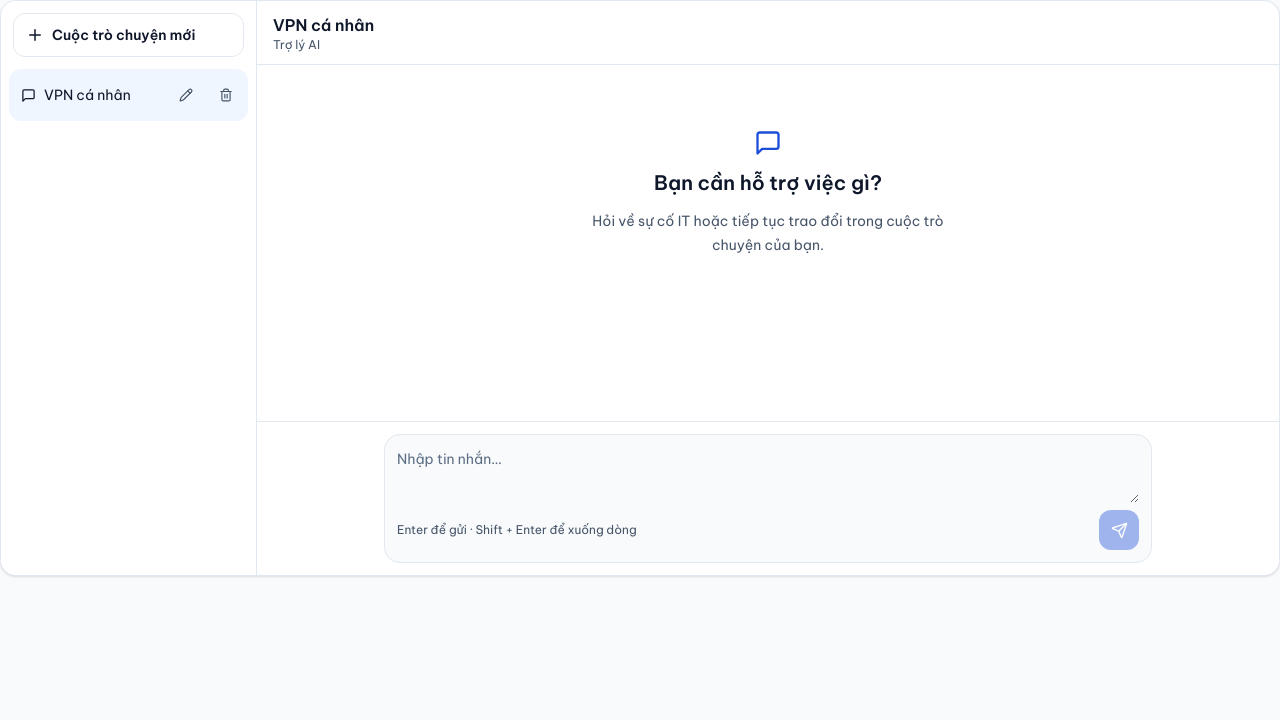
renames a conversation and requires confirmation before deleting its history
Check: the button "VPN cá nhân" is shown, box [13,73,164,117]
Click the button named "Đổi tên VPN cá nhân" at (186,95), box [168,77,204,113]
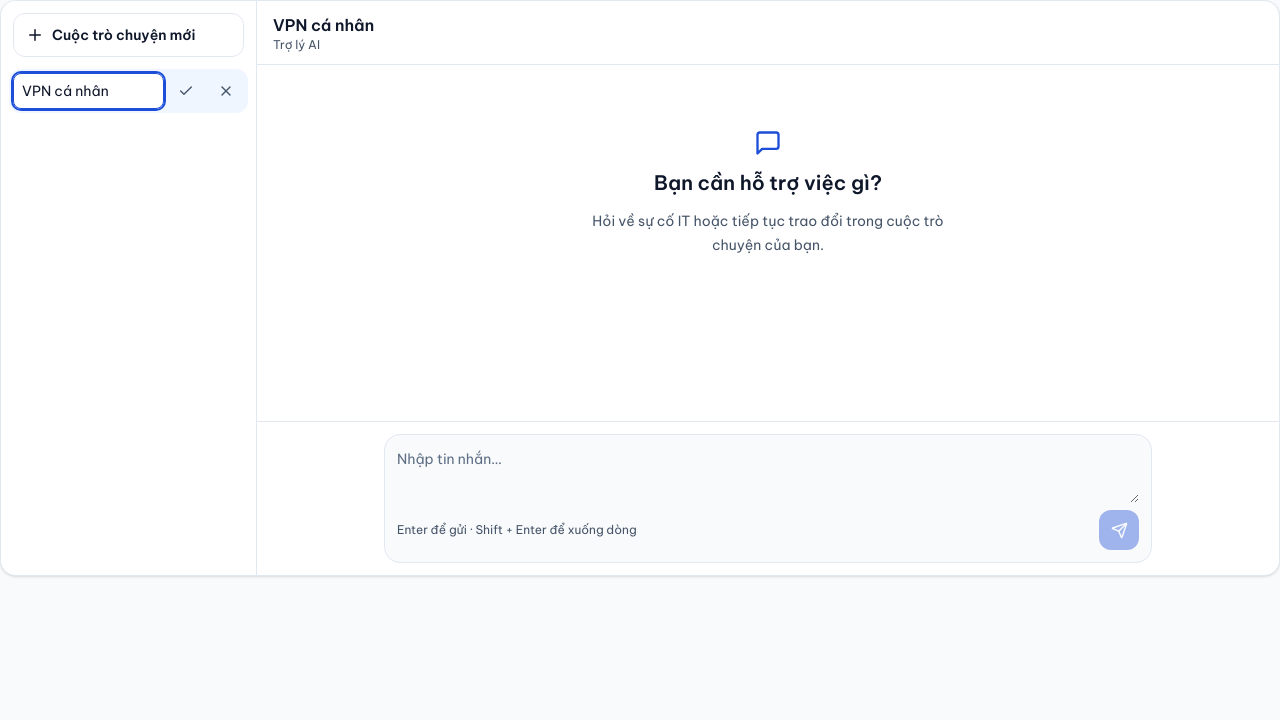
Replace the text in the field named "Tên cuộc trò chuyện" with "VPN làm việc từ xa" at (88,91), box [13,73,164,109]
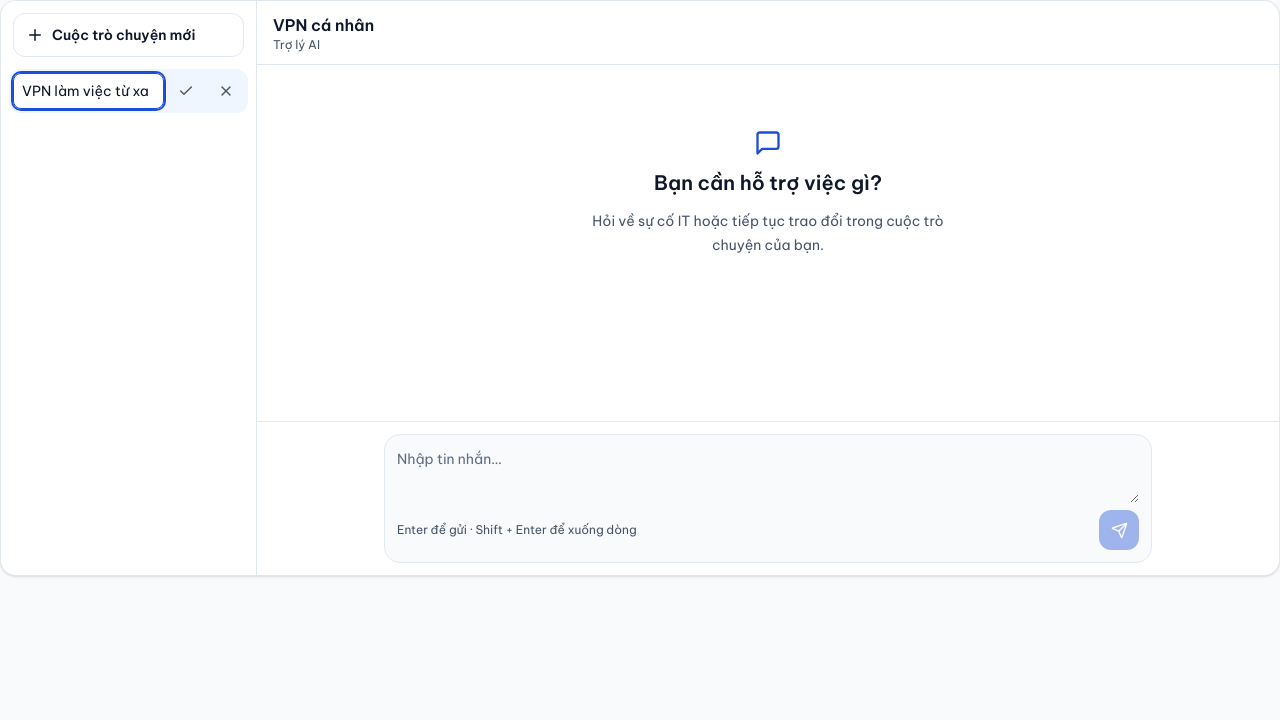
Click the button named "Lưu tên cuộc trò chuyện" at (186,91), box [168,73,204,109]
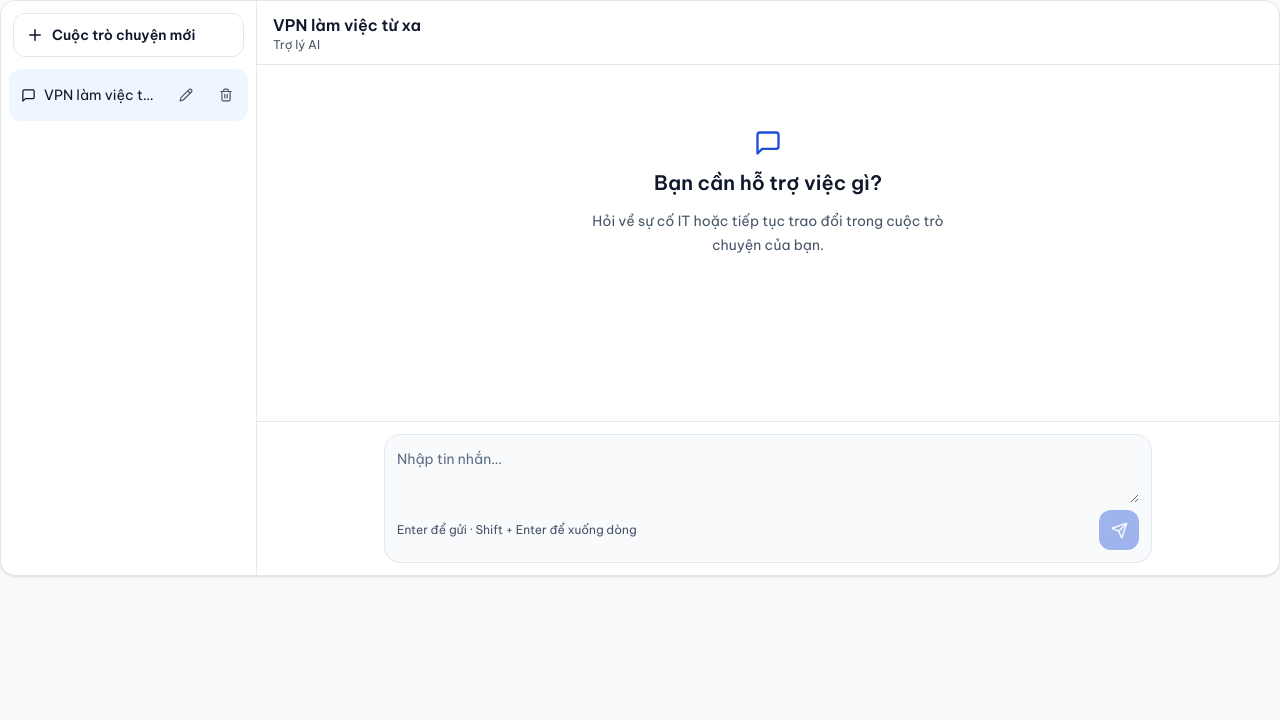
Check: the button "VPN làm việc từ xa" is shown, box [13,73,164,117]
Click the button named "Xóa VPN làm việc từ xa" at (226,95), box [208,77,244,113]
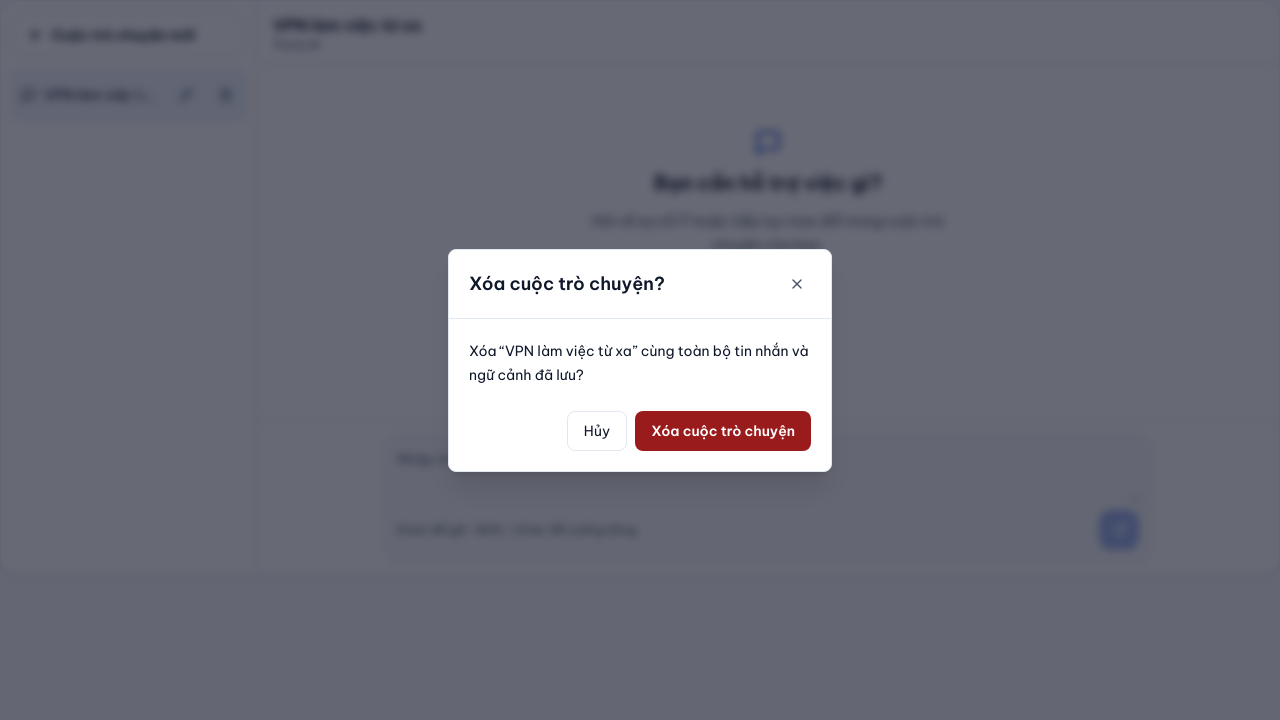
Click the button "Xóa cuộc trò chuyện" at (723,430), box [635,410,811,450]
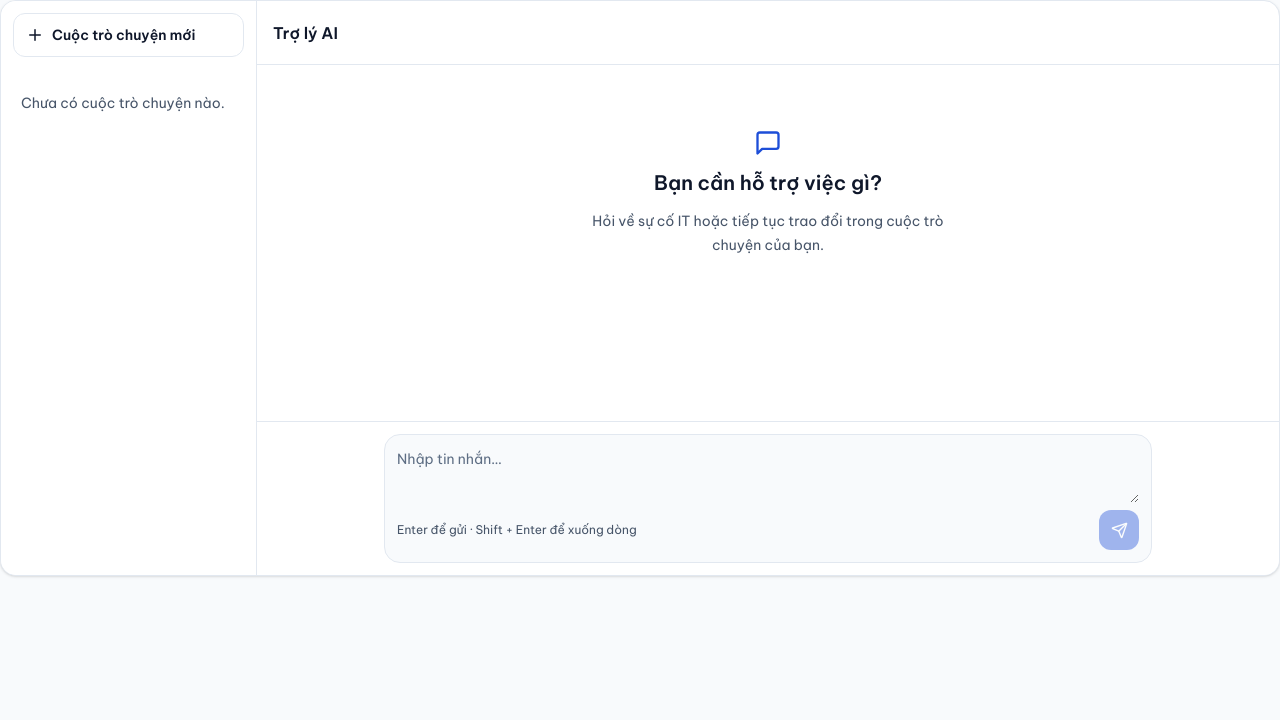
Check: the button "VPN làm việc từ xa" is gone
